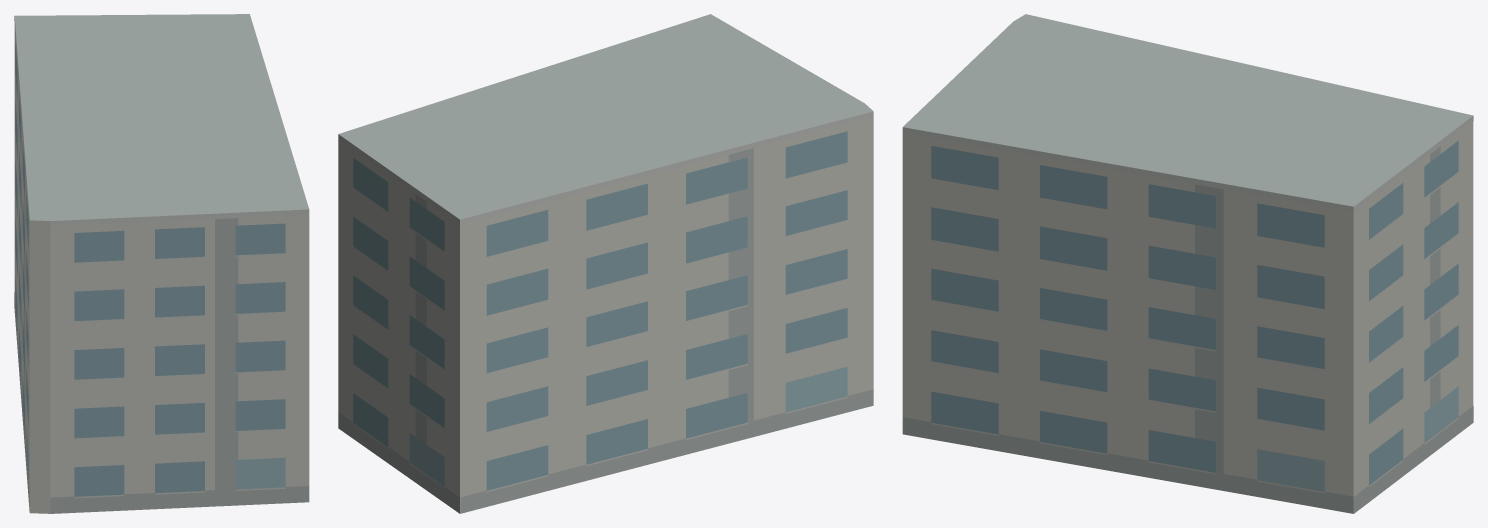
Rendered from survey-upis-32733056.glb.
3 views of the same model, side by side, from view 1: azimuth 30°, elevation 25°; view 2: azimuth 150°, elevation 25°; view 3: azimuth 270°, elevation 25° (orthographic). The views are drawn at different scales.
Parts seen in each view (by area): view 1: survey-upis-32733056.tmp; view 2: survey-upis-32733056.tmp; view 3: survey-upis-32733056.tmp.
Boxes of the visible parts, x1=… form: survey-upis-32733056.tmp: x1=14, y1=14, x2=309, y2=513; survey-upis-32733056.tmp: x1=338, y1=14, x2=873, y2=513; survey-upis-32733056.tmp: x1=902, y1=14, x2=1473, y2=513.
Bounding box in the file's own units: 17.7 × 13.15 × 22.16.
